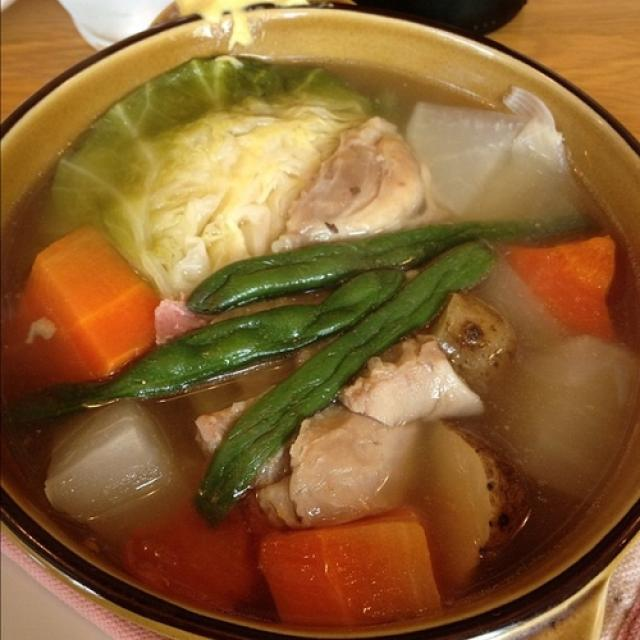汤锅炖物: (12, 42, 634, 618)
